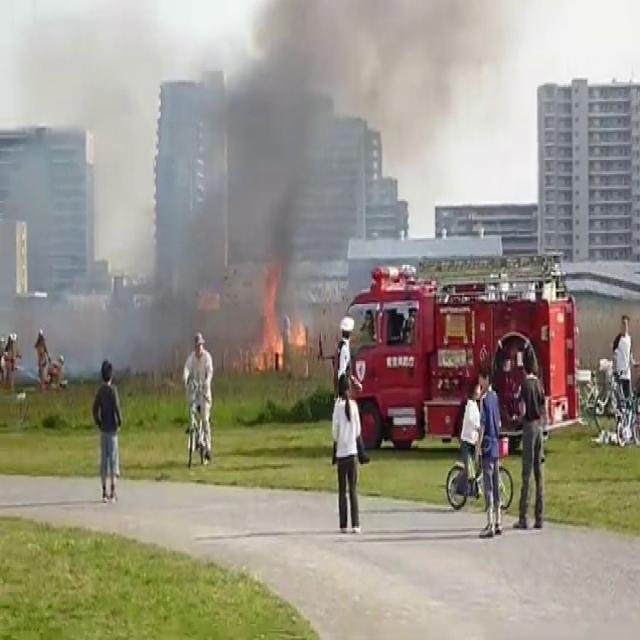Fire: (250, 271, 296, 374)
Smoke: (0, 0, 490, 331)
